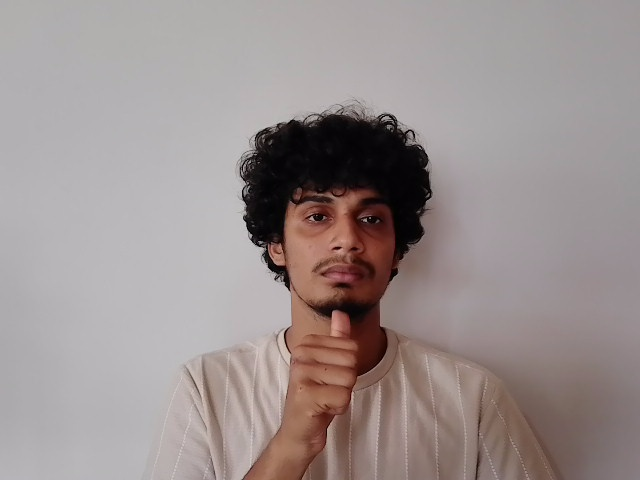not: (284, 285, 386, 420)
